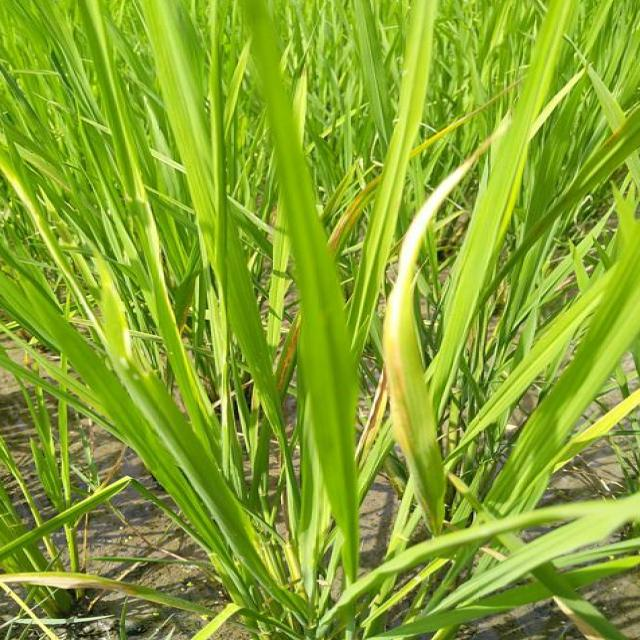Leaf Blight: (383, 114, 511, 526), (407, 79, 522, 158), (325, 176, 382, 256), (276, 312, 300, 403)
